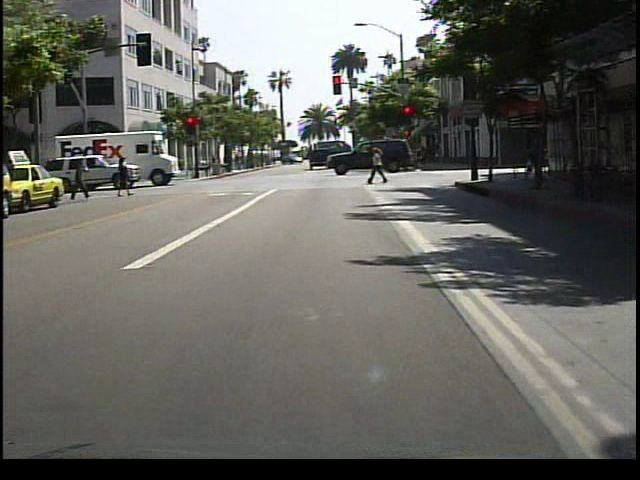person: (523, 136, 551, 190), (69, 159, 93, 204), (367, 146, 391, 186), (113, 154, 133, 200)
